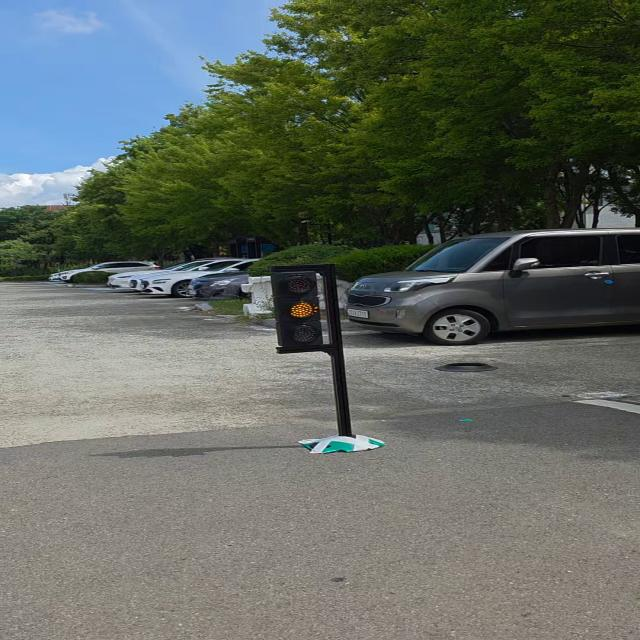yellow: (273, 270, 326, 354)
